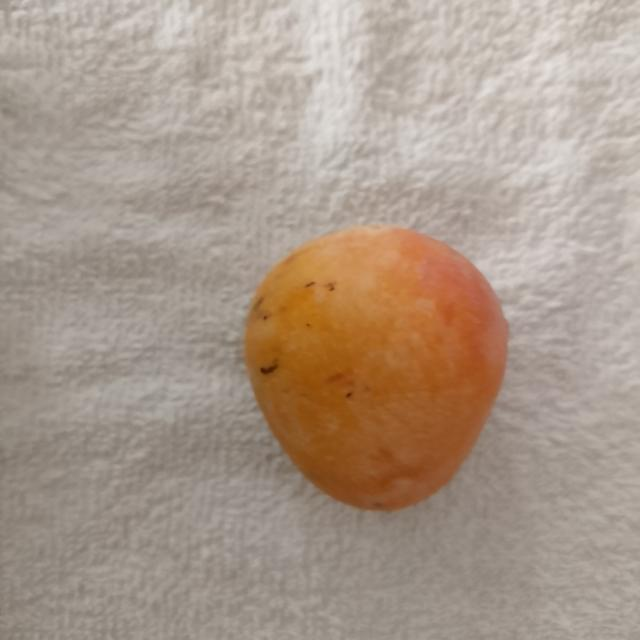mango: (245, 226, 508, 510)
